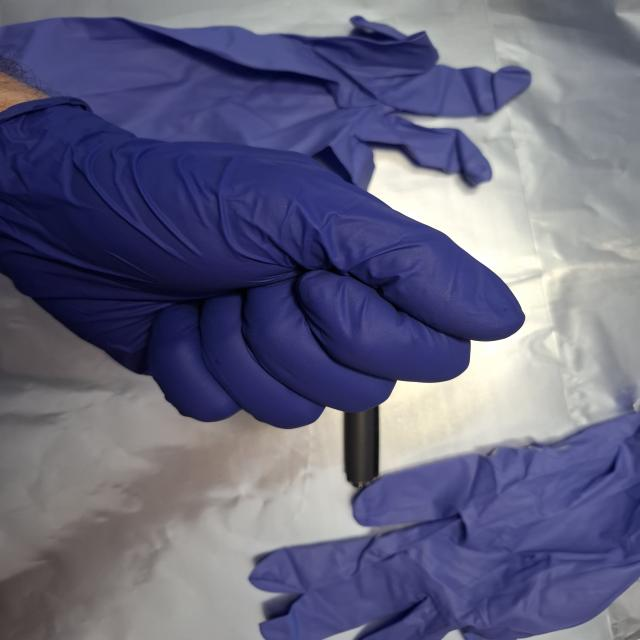glove_on: (0, 87, 531, 435)
